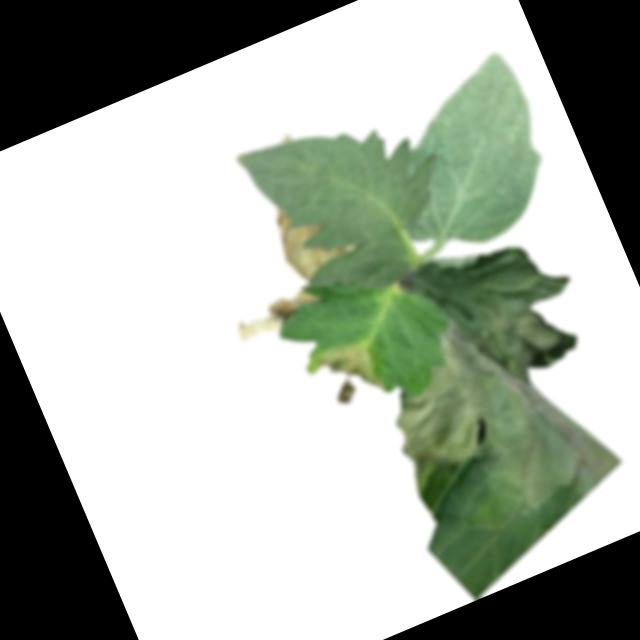Late_blight: (336, 211, 640, 558), (266, 187, 360, 288), (230, 280, 329, 349), (313, 331, 390, 412)
healthy: (235, 86, 472, 321), (358, 46, 572, 266)
